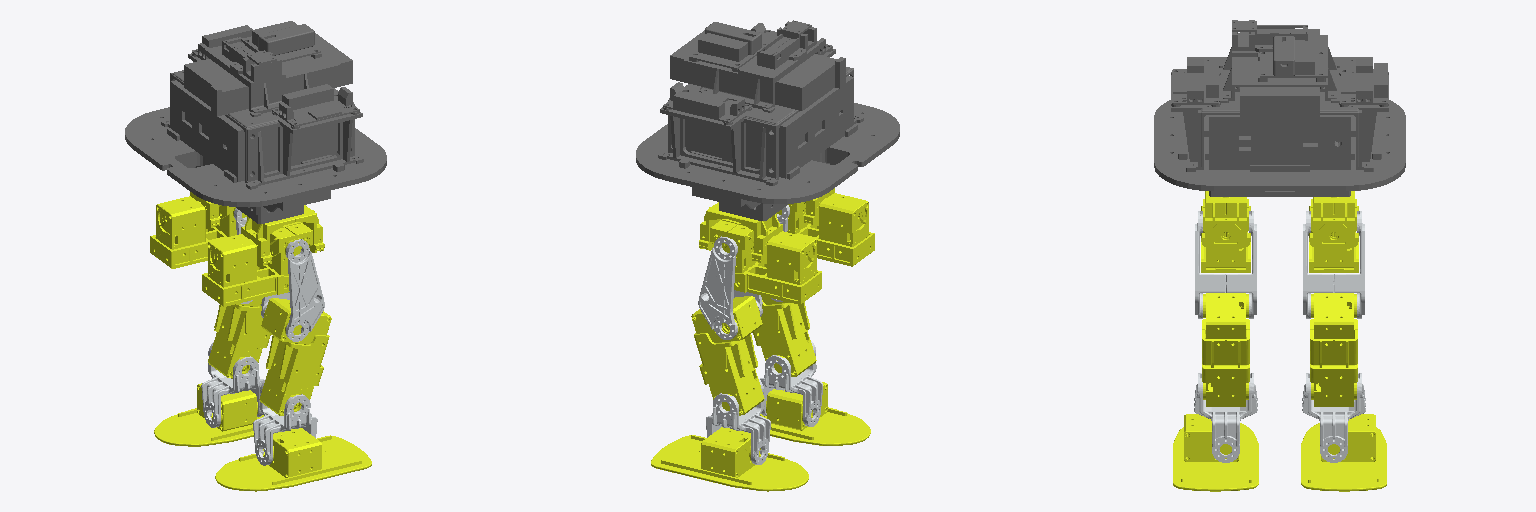
URDF robot description (exhx5_w_b_16):
<?xml version="1.0" encoding="utf-8"?>
<!-- This URDF was automatically created by SolidWorks to URDF Exporter! Originally created by [author] ([email redacted]) 
     Commit Version: 1.5.1-0-g916b5db  Build Version: 1.5.7152.31018
     For more information, please see http://wiki.ros.org/sw_urdf_exporter -->
<robot
  name="exhx5_w_b_16">
  <link
    name="body_link">
    <inertial>
      <origin
        xyz="0.00043545 0.00025536 0.10071"
        rpy="0 0 0" />
      <mass
        value="1.8238" />
      <inertia
        ixx="0.0025905"
        ixy="-5.6852E-06"
        ixz="-1.3106E-05"
        iyy="0.0024595"
        iyz="-1.261E-06"
        izz="0.0046407" />
    </inertial>
    <visual>
      <origin
        xyz="0 0 0"
        rpy="0 0 0" />
      <geometry>
        <mesh
          filename="../meshes/body_link.STL" />
      </geometry>
      <material
        name="">
        <color
          rgba="0.49804 0.49804 0.49804 1" />
      </material>
    </visual>
    <collision>
      <origin
        xyz="0 0 0"
        rpy="0 0 0" />
      <geometry>
        <mesh
          filename="../meshes/body_link.STL" />
      </geometry>
    </collision>
  </link>

  <link
    name="imu_link">
    <inertial>
      <origin
        xyz="-0.008387 1.336E-17 -0.0069463"
        rpy="0 0 0" />
      <mass
        value="0.0062931" />
      <inertia
        ixx="3.2242E-07"
        ixy="3.3527E-22"
        ixz="-6.9193E-08"
        iyy="9.2229E-07"
        iyz="-8.0392E-22"
        izz="1.1018E-06" />
    </inertial>
    <visual>
      <origin
        xyz="0 0 0"
        rpy="0 0 0" />
      <geometry>
        <mesh
          filename="../meshes/imu_link.STL" />
      </geometry>
      <material
        name="">
        <color
          rgba="0.79216 0.81961 0.93333 1" />
      </material>
    </visual>
    <collision>
      <origin
        xyz="0 0 0"
        rpy="0 0 0" />
      <geometry>
        <mesh
          filename="../meshes/imu_link.STL" />
      </geometry>
    </collision>
  </link>
  <joint
    name="imu"
    type="fixed">
    <origin
      xyz="0 0 0.0492"
      rpy="0 0 0" />
    <parent
      link="body_link" />
    <child
      link="imu_link" />
    <axis
      xyz="0 0 0" />
    <limit
      lower="-3.14"
      upper="3.14"
      effort="4"
      velocity="4" />
  </joint>
  <link
    name="l_hip_g_link">
    <inertial>
      <origin
        xyz="-0.0043797 -8.6604E-08 0.011813"
        rpy="0 0 0" />
      <mass
        value="0.061008" />
      <inertia
        ixx="1.167E-05"
        ixy="7.1767E-11"
        ixz="9.1442E-09"
        iyy="2.2342E-05"
        iyz="2.5177E-11"
        izz="2.4892E-05" />
    </inertial>
    <visual>
      <origin
        xyz="0 0 0"
        rpy="0 0 0" />
      <geometry>
        <mesh
          filename="../meshes/l_hip_g_link.STL" />
      </geometry>
      <material
        name="">
        <color
          rgba="0.9451 1 0.18431 1" />
      </material>
    </visual>
    <collision>
      <origin
        xyz="0 0 0"
        rpy="0 0 0" />
      <geometry>
        <mesh
          filename="../meshes/l_hip_g_link.STL" />
      </geometry>
    </collision>
  </link>
  <joint
    name="l_hip_g"
    type="fixed">
    <origin
      xyz="-.001 0.045 0"
      rpy="0 0 0" />
    <parent
      link="body_link" />
    <child
      link="l_hip_g_link" />
    <axis
      xyz="0 0 0" />
  </joint>
  <link
    name="l_hip_roll_link">
    <inertial>
      <origin
        xyz="0.013831 0.00033457 0.025453"
        rpy="0 0 0" />
      <mass
        value="0.2969" />
      <inertia
        ixx="7.8136E-05"
        ixy="7.265E-07"
        ixz="-6.9809E-08"
        iyy="9.2183E-05"
        iyz="-5.6881E-11"
        izz="7.1034E-05" />
    </inertial>
    <visual>
      <origin
        xyz="0 0 0"
        rpy="0 0 0" />
      <geometry>
        <mesh
          filename="../meshes/l_hip_roll_link.STL" />
      </geometry>
      <material
        name="">
        <color
          rgba="0.9451 1 0.18431 1" />
      </material>
    </visual>
    <collision>
      <origin
        xyz="0 0 0"
        rpy="0 0 0" />
      <geometry>
        <mesh
          filename="../meshes/l_hip_roll_link.STL" />
      </geometry>
    </collision>
  </link>
  <joint
    name="l_hip_roll"
    type="revolute">
    <origin
      xyz="0 0 0"
      rpy="3.1416 1.5708 0" />
    <parent
      link="l_hip_g_link" />
    <child
      link="l_hip_roll_link" />
    <axis
      xyz="0 0 1" />
    <limit
      lower="-3.14"
      upper="3.14"
      effort="4"
      velocity="4" />
  </joint>
  <link
    name="l_hip_pitch_link">
    <inertial>
      <origin
        xyz="0.041225 -0.007321 -5.0713E-08"
        rpy="0 0 0" />
      <mass
        value="0.051592" />
      <inertia
        ixx="2.7959E-05"
        ixy="2.0752E-06"
        ixz="-8.0934E-11"
        iyy="4.8156E-05"
        iyz="3.6317E-11"
        izz="2.9604E-05" />
    </inertial>
    <visual>
      <origin
        xyz="0 0 0"
        rpy="0 0 0" />
      <geometry>
        <mesh
          filename="../meshes/l_hip_pitch_link.STL" />
      </geometry>
      <material
        name="">
        <color
          rgba="0.89804 0.91765 0.92941 1" />
      </material>
    </visual>
    <collision>
      <origin
        xyz="0 0 0"
        rpy="0 0 0" />
      <geometry>
        <mesh
          filename="../meshes/l_hip_pitch_link.STL" />
      </geometry>
    </collision>
  </link>
  <joint
    name="l_hip_pitch"
    type="revolute">
    <origin
      xyz="0 0 0"
      rpy="1.5708 0 0" />
    <parent
      link="l_hip_roll_link" />
    <child
      link="l_hip_pitch_link" />
    <axis
      xyz="0 0 1" />
    <limit
      lower="-3.14"
      upper="3.14"
      effort="4"
      velocity="4" />
  </joint>
  <link
    name="l_knee_link">
    <inertial>
      <origin
        xyz="0.033756 -0.0084189 -6.6115E-09"
        rpy="0 0 0" />
      <mass
        value="0.28878" />
      <inertia
        ixx="6.6724E-05"
        ixy="7.5004E-07"
        ixz="-8.4578E-07"
        iyy="6.5699E-05"
        iyz="4.1085E-07"
        izz="7.0381E-05" />
    </inertial>
    <visual>
      <origin
        xyz="0 0 0"
        rpy="0 0 0" />
      <geometry>
        <mesh
          filename="../meshes/l_knee_link.STL" />
      </geometry>
      <material
        name="">
        <color
          rgba="0.9451 1 0.18431 1" />
      </material>
    </visual>
    <collision>
      <origin
        xyz="0 0 0"
        rpy="0 0 0" />
      <geometry>
        <mesh
          filename="../meshes/l_knee_link.STL" />
      </geometry>
    </collision>
  </link>
  <joint
    name="l_knee"
    type="revolute">
    <origin
      xyz="0.075954 0 0"
      rpy="0 0 0" />
    <parent
      link="l_hip_pitch_link" />
    <child
      link="l_knee_link" />
    <axis
      xyz="0 0 1" />
    <limit
      lower="-3.14"
      upper="3.14"
      effort="4"
      velocity="4" />
  </joint>
  <link
    name="l_ank_pitch_link">
    <inertial>
      <origin
        xyz="0.022786 -7.3909E-09 -7.1981E-06"
        rpy="0 0 0" />
      <mass
        value="0.044772" />
      <inertia
        ixx="1.777E-05"
        ixy="8.555E-14"
        ixz="-3.3713E-09"
        iyy="1.7119E-05"
        iyz="1.7593E-11"
        izz="1.8661E-05" />
    </inertial>
    <visual>
      <origin
        xyz="0 0 0"
        rpy="0 0 0" />
      <geometry>
        <mesh
          filename="../meshes/l_ank_pitch_link.STL" />
      </geometry>
      <material
        name="">
        <color
          rgba="0.89804 0.91765 0.92941 1" />
      </material>
    </visual>
    <collision>
      <origin
        xyz="0 0 0"
        rpy="0 0 0" />
      <geometry>
        <mesh
          filename="../meshes/l_ank_pitch_link.STL" />
      </geometry>
    </collision>
  </link>
  <joint
    name="l_ank_pitch"
    type="revolute">
    <origin
      xyz="0.074602 0 0"
      rpy="3.1416 0 0" />
    <parent
      link="l_knee_link" />
    <child
      link="l_ank_pitch_link" />
    <axis
      xyz="0 0 1" />
    <limit
      lower="-3.14"
      upper="3.14"
      effort="4"
      velocity="4" />
  </joint>
  <link
    name="l_ank_roll_link">
    <inertial>
      <origin
        xyz="0.0047069 0.010728 0.0015299"
        rpy="0 0 0" />
      <mass
        value="0.16774" />
      <inertia
        ixx="0.00012039"
        ixy="-3.7428E-09"
        ixz="4.4069E-08"
        iyy="8.7735E-05"
        iyz="7.0469E-07"
        izz="4.7866E-05" />
    </inertial>
    <visual>
      <origin
        xyz="0 0 0"
        rpy="0 0 0" />
      <geometry>
        <mesh
          filename="../meshes/l_ank_roll_link.STL" />
      </geometry>
      <material
        name="">
        <color
          rgba="0.9451 1 0.18431 1" />
      </material>
    </visual>
    <collision>
      <origin
        xyz="0 0 0"
        rpy="0 0 0" />
      <geometry>
        <mesh
          filename="../meshes/l_ank_roll_link.STL" />
      </geometry>
    </collision>
  </link>
  <joint
    name="l_ank_roll"
    type="revolute">
    <origin
      xyz="0.0465 0 0"
      rpy="-1.5708 0 0" />
    <parent
      link="l_ank_pitch_link" />
    <child
      link="l_ank_roll_link" />
    <axis
      xyz="0 0 1" />
    <limit
      lower="-3.14"
      upper="3.14"
      effort="4"
      velocity="4" />
  </joint>
  <link
    name="r_hip_g_link">
    <inertial>
      <origin
        xyz="-0.0043797 -8.6604E-08 0.011813"
        rpy="0 0 0" />
      <mass
        value="0.061008" />
      <inertia
        ixx="1.167E-05"
        ixy="7.1767E-11"
        ixz="9.1442E-09"
        iyy="2.2342E-05"
        iyz="2.5177E-11"
        izz="2.4892E-05" />
    </inertial>
    <visual>
      <origin
        xyz="0 0 0"
        rpy="0 0 0" />
      <geometry>
        <mesh
          filename="../meshes/r_hip_g_link.STL" />
      </geometry>
      <material
        name="">
        <color
          rgba="0.9451 1 0.18431 1" />
      </material>
    </visual>
    <collision>
      <origin
        xyz="0 0 0"
        rpy="0 0 0" />
      <geometry>
        <mesh
          filename="../meshes/r_hip_g_link.STL" />
      </geometry>
    </collision>
  </link>
  <joint
    name="r_hip_g"
    type="fixed">
    <origin
      xyz="-.001 -.045 0"
      rpy="0 0 0" />
    <parent
      link="body_link" />
    <child
      link="r_hip_g_link" />
    <axis
      xyz="0 0 0" />
  </joint>
  <link
    name="r_hip_roll_link">
    <inertial>
      <origin
        xyz="0.013831 0.00033457 0.025453"
        rpy="0 0 0" />
      <mass
        value="0.2969" />
      <inertia
        ixx="7.8136E-05"
        ixy="7.265E-07"
        ixz="-6.9809E-08"
        iyy="9.2183E-05"
        iyz="-5.6881E-11"
        izz="7.1034E-05" />
    </inertial>
    <visual>
      <origin
        xyz="0 0 0"
        rpy="0 0 0" />
      <geometry>
        <mesh
          filename="../meshes/r_hip_roll_link.STL" />
      </geometry>
      <material
        name="">
        <color
          rgba="0.9451 1 0.18431 1" />
      </material>
    </visual>
    <collision>
      <origin
        xyz="0 0 0"
        rpy="0 0 0" />
      <geometry>
        <mesh
          filename="../meshes/r_hip_roll_link.STL" />
      </geometry>
    </collision>
  </link>
  <joint
    name="r_hip_roll"
    type="revolute">
    <origin
      xyz="0 0 0"
      rpy="3.1416 1.5708 0" />
    <parent
      link="r_hip_g_link" />
    <child
      link="r_hip_roll_link" />
    <axis
      xyz="0 0 1" />
    <limit
      lower="-3.14"
      upper="3.14"
      effort="4"
      velocity="4" />
  </joint>
  <link
    name="r_hip_pitch_link">
    <inertial>
      <origin
        xyz="0.041225 0.007321 5.0713E-08"
        rpy="0 0 0" />
      <mass
        value="0.051592" />
      <inertia
        ixx="2.7959E-05"
        ixy="-2.0752E-06"
        ixz="8.0934E-11"
        iyy="4.8156E-05"
        iyz="3.6317E-11"
        izz="2.9604E-05" />
    </inertial>
    <visual>
      <origin
        xyz="0 0 0"
        rpy="0 0 0" />
      <geometry>
        <mesh
          filename="../meshes/r_hip_pitch_link.STL" />
      </geometry>
      <material
        name="">
        <color
          rgba="0.89804 0.91765 0.92941 1" />
      </material>
    </visual>
    <collision>
      <origin
        xyz="0 0 0"
        rpy="0 0 0" />
      <geometry>
        <mesh
          filename="../meshes/r_hip_pitch_link.STL" />
      </geometry>
    </collision>
  </link>
  <joint
    name="r_hip_pitch"
    type="revolute">
    <origin
      xyz="0 0 0"
      rpy="-1.5708 0 0" />
    <parent
      link="r_hip_roll_link" />
    <child
      link="r_hip_pitch_link" />
    <axis
      xyz="0 0 1" />
    <limit
      lower="-3.14"
      upper="3.14"
      effort="4"
      velocity="4" />
  </joint>
  <link
    name="r_knee_link">
    <inertial>
      <origin
        xyz="0.033757 0.0084176 6.6115E-09"
        rpy="0 0 0" />
      <mass
        value="0.28878" />
      <inertia
        ixx="6.6724E-05"
        ixy="-7.5008E-07"
        ixz="8.458E-07"
        iyy="6.5699E-05"
        iyz="4.1081E-07"
        izz="7.0381E-05" />
    </inertial>
    <visual>
      <origin
        xyz="0 0 0"
        rpy="0 0 0" />
      <geometry>
        <mesh
          filename="../meshes/r_knee_link.STL" />
      </geometry>
      <material
        name="">
        <color
          rgba="0.9451 1 0.18431 1" />
      </material>
    </visual>
    <collision>
      <origin
        xyz="0 0 0"
        rpy="0 0 0" />
      <geometry>
        <mesh
          filename="../meshes/r_knee_link.STL" />
      </geometry>
    </collision>
  </link>
  <joint
    name="r_knee"
    type="revolute">
    <origin
      xyz="0.075954 0 0"
      rpy="0 0 0" />
    <parent
      link="r_hip_pitch_link" />
    <child
      link="r_knee_link" />
    <axis
      xyz="0 0 1" />
    <limit
      lower="-3.14"
      upper="3.14"
      effort="4"
      velocity="4" />
  </joint>
  <link
    name="r_ank_pitch_link">
    <inertial>
      <origin
        xyz="0.025786 -7.3887E-09 -7.1981E-06"
        rpy="0 0 0" />
      <mass
        value="0.044772" />
      <inertia
        ixx="1.777E-05"
        ixy="8.5434E-14"
        ixz="-3.3713E-09"
        iyy="1.7119E-05"
        iyz="1.7592E-11"
        izz="1.8661E-05" />
    </inertial>
    <visual>
      <origin
        xyz="0 0 0"
        rpy="0 0 0" />
      <geometry>
        <mesh
          filename="../meshes/r_ank_pitch_link.STL" />
      </geometry>
      <material
        name="">
        <color
          rgba="0.89804 0.91765 0.92941 1" />
      </material>
    </visual>
    <collision>
      <origin
        xyz="0 0 0"
        rpy="0 0 0" />
      <geometry>
        <mesh
          filename="../meshes/r_ank_pitch_link.STL" />
      </geometry>
    </collision>
  </link>
  <joint
    name="r_ank_pitch"
    type="revolute">
    <origin
      xyz="0.071602 0 0"
      rpy="3.1416 0 0" />
    <parent
      link="r_knee_link" />
    <child
      link="r_ank_pitch_link" />
    <axis
      xyz="0 0 1" />
    <limit
      lower="-3.14"
      upper="3.14"
      effort="4"
      velocity="4" />
  </joint>
  <link
    name="r_ank_roll_link">
    <inertial>
      <origin
        xyz="0.0077069 -0.010728 0.0015299"
        rpy="0 0 0" />
      <mass
        value="0.16774" />
      <inertia
        ixx="0.00012039"
        ixy="3.743E-09"
        ixz="4.407E-08"
        iyy="8.7735E-05"
        iyz="-7.0467E-07"
        izz="4.7866E-05" />
    </inertial>
    <visual>
      <origin
        xyz="0 0 0"
        rpy="0 0 0" />
      <geometry>
        <mesh
          filename="../meshes/r_ank_roll_link.STL" />
      </geometry>
      <material
        name="">
        <color
          rgba="0.9451 1 0.18431 1" />
      </material>
    </visual>
    <collision>
      <origin
        xyz="0 0 0"
        rpy="0 0 0" />
      <geometry>
        <mesh
          filename="../meshes/r_ank_roll_link.STL" />
      </geometry>
    </collision>
  </link>
  <joint
    name="r_ank_roll"
    type="revolute">
    <origin
      xyz="0.0465 0 0"
      rpy="1.5708 0 0" />
    <parent
      link="r_ank_pitch_link" />
    <child
      link="r_ank_roll_link" />
    <axis
      xyz="0 0 1" />
    <limit
      lower="-3.14"
      upper="3.14"
      effort="4"
      velocity="4" />
  </joint>
  <transmission name="r_hip_roll_tran">
    <type>transmission_interface/SimpleTransmission</type>
    <joint name="r_hip_roll">
      <hardwareInterface>hardware_interface/EffortJointInterface</hardwareInterface>
    </joint>
    <actuator name="r_hip_roll_motor">
      <hardwareInterface>hardware_interface/EffortJointInterface</hardwareInterface>
      <mechanicalReduction>1</mechanicalReduction>
    </actuator>
  </transmission>
  <transmission name="r_hip_pitch_tran">
    <type>transmission_interface/SimpleTransmission</type>
    <joint name="r_hip_pitch">
      <hardwareInterface>hardware_interface/EffortJointInterface</hardwareInterface>
    </joint>
    <actuator name="r_hip_pitch_motor">
      <hardwareInterface>hardware_interface/EffortJointInterface</hardwareInterface>
      <mechanicalReduction>1</mechanicalReduction>
    </actuator>
  </transmission>
  <transmission name="r_knee_tran">
    <type>transmission_interface/SimpleTransmission</type>
    <joint name="r_knee">
      <hardwareInterface>hardware_interface/EffortJointInterface</hardwareInterface>
    </joint>
    <actuator name="r_knee_motor">
      <hardwareInterface>hardware_interface/EffortJointInterface</hardwareInterface>
      <mechanicalReduction>1</mechanicalReduction>
    </actuator>
  </transmission>
  <transmission name="r_ank_pitch_tran">
    <type>transmission_interface/SimpleTransmission</type>
    <joint name="r_ank_pitch">
      <hardwareInterface>hardware_interface/EffortJointInterface</hardwareInterface>
    </joint>
    <actuator name="r_ank_pitch_motor">
      <hardwareInterface>hardware_interface/EffortJointInterface</hardwareInterface>
      <mechanicalReduction>1</mechanicalReduction>
    </actuator>
  </transmission>
  <transmission name="r_ank_roll_tran">
    <type>transmission_interface/SimpleTransmission</type>
    <joint name="r_ank_roll">
      <hardwareInterface>hardware_interface/EffortJointInterface</hardwareInterface>
    </joint>
    <actuator name="r_ank_roll_motor">
      <hardwareInterface>hardware_interface/EffortJointInterface</hardwareInterface>
      <mechanicalReduction>1</mechanicalReduction>
    </actuator>
  </transmission>
  <transmission name="l_hip_roll_tran">
    <type>transmission_interface/SimpleTransmission</type>
    <joint name="l_hip_roll">
      <hardwareInterface>hardware_interface/EffortJointInterface</hardwareInterface>
    </joint>
    <actuator name="l_hip_roll_motor">
      <hardwareInterface>hardware_interface/EffortJointInterface</hardwareInterface>
      <mechanicalReduction>1</mechanicalReduction>
    </actuator>
  </transmission>
  <transmission name="l_hip_pitch_tran">
    <type>transmission_interface/SimpleTransmission</type>
    <joint name="l_hip_pitch">
      <hardwareInterface>hardware_interface/EffortJointInterface</hardwareInterface>
    </joint>
    <actuator name="l_hip_pitch_motor">
      <hardwareInterface>hardware_interface/EffortJointInterface</hardwareInterface>
      <mechanicalReduction>1</mechanicalReduction>
    </actuator>
  </transmission>
  <transmission name="l_knee_tran">
    <type>transmission_interface/SimpleTransmission</type>
    <joint name="l_knee">
      <hardwareInterface>hardware_interface/EffortJointInterface</hardwareInterface>
    </joint>
    <actuator name="l_knee_motor">
      <hardwareInterface>hardware_interface/EffortJointInterface</hardwareInterface>
      <mechanicalReduction>1</mechanicalReduction>
    </actuator>
  </transmission>
  <transmission name="l_ank_pitch_tran">
    <type>transmission_interface/SimpleTransmission</type>
    <joint name="l_ank_pitch">
      <hardwareInterface>hardware_interface/EffortJointInterface</hardwareInterface>
    </joint>
    <actuator name="l_ank_pitch_motor">
      <hardwareInterface>hardware_interface/EffortJointInterface</hardwareInterface>
      <mechanicalReduction>1</mechanicalReduction>
    </actuator>
  </transmission>
  <transmission name="l_ank_roll_tran">
    <type>transmission_interface/SimpleTransmission</type>
    <joint name="l_ank_roll">
      <hardwareInterface>hardware_interface/EffortJointInterface</hardwareInterface>
    </joint>
    <actuator name="l_ank_roll_motor">
      <hardwareInterface>hardware_interface/EffortJointInterface</hardwareInterface>
      <mechanicalReduction>1</mechanicalReduction>
    </actuator>
  </transmission>
</robot>

--- Facts derived from the render (not from the file) ---
3 views of the same robot in one strip: view 1: azimuth 30°, elevation 25°; view 2: azimuth 150°, elevation 25°; view 3: azimuth 270°, elevation 25° (orthographic).
Robot: exhx5_w_b_16 — 14 links, 13 joints (10 revolute, 3 fixed); root link body_link; default pose: all joints at 0.
Links seen in each view (by area): view 1: body_link, r_ank_roll_link, r_hip_roll_link, r_knee_link, l_hip_roll_link, l_ank_roll_link, l_knee_link, r_hip_pitch_link, r_ank_pitch_link, l_ank_pitch_link, r_hip_g_link; view 2: body_link, l_ank_roll_link, l_hip_roll_link, l_knee_link, r_hip_roll_link, r_ank_roll_link, r_knee_link, l_hip_pitch_link, l_ank_pitch_link, r_ank_pitch_link, l_hip_g_link; view 3: body_link, l_knee_link, r_knee_link, r_ank_roll_link, l_ank_roll_link, l_hip_pitch_link, r_hip_pitch_link, l_ank_pitch_link, r_ank_pitch_link, l_hip_g_link, r_hip_g_link, l_hip_roll_link (+1 smaller).
Boxes of the visible links, left/top/right/bottom form: body_link: left=125, top=21, right=386, bottom=223; r_ank_roll_link: left=215, top=428, right=371, bottom=491; r_hip_roll_link: left=202, top=222, right=312, bottom=306; r_knee_link: left=259, top=298, right=331, bottom=415; l_hip_roll_link: left=150, top=196, right=246, bottom=268; l_ank_roll_link: left=154, top=383, right=263, bottom=446; l_knee_link: left=208, top=298, right=270, bottom=378; r_hip_pitch_link: left=261, top=239, right=324, bottom=341; r_ank_pitch_link: left=253, top=379, right=317, bottom=465; l_ank_pitch_link: left=201, top=342, right=263, bottom=427; r_hip_g_link: left=241, top=205, right=324, bottom=266; body_link: left=636, top=20, right=899, bottom=220; l_ank_roll_link: left=651, top=427, right=808, bottom=491; l_hip_roll_link: left=710, top=219, right=821, bottom=304; l_knee_link: left=691, top=296, right=764, bottom=415; r_hip_roll_link: left=777, top=193, right=874, bottom=266; r_ank_roll_link: left=760, top=382, right=870, bottom=445; r_knee_link: left=753, top=296, right=816, bottom=376; l_hip_pitch_link: left=698, top=236, right=762, bottom=339; l_ank_pitch_link: left=706, top=378, right=770, bottom=464; r_ank_pitch_link: left=760, top=341, right=822, bottom=426; l_hip_g_link: left=699, top=202, right=782, bottom=263; body_link: left=1154, top=20, right=1405, bottom=196; l_knee_link: left=1310, top=293, right=1357, bottom=406; r_knee_link: left=1202, top=293, right=1249, bottom=406; r_ank_roll_link: left=1173, top=414, right=1258, bottom=491; l_ank_roll_link: left=1301, top=414, right=1386, bottom=491; l_hip_pitch_link: left=1303, top=211, right=1364, bottom=318; r_hip_pitch_link: left=1195, top=211, right=1256, bottom=318; l_ank_pitch_link: left=1302, top=373, right=1365, bottom=462; r_ank_pitch_link: left=1194, top=373, right=1257, bottom=462; l_hip_g_link: left=1309, top=191, right=1358, bottom=246; r_hip_g_link: left=1201, top=191, right=1250, bottom=246; l_hip_roll_link: left=1309, top=199, right=1358, bottom=272.
Size in the robot's own frame: 0.185 by 0.21 by 0.3893 metres.
14 mesh visuals loaded from 14 distinct referenced files (14 binary STL).